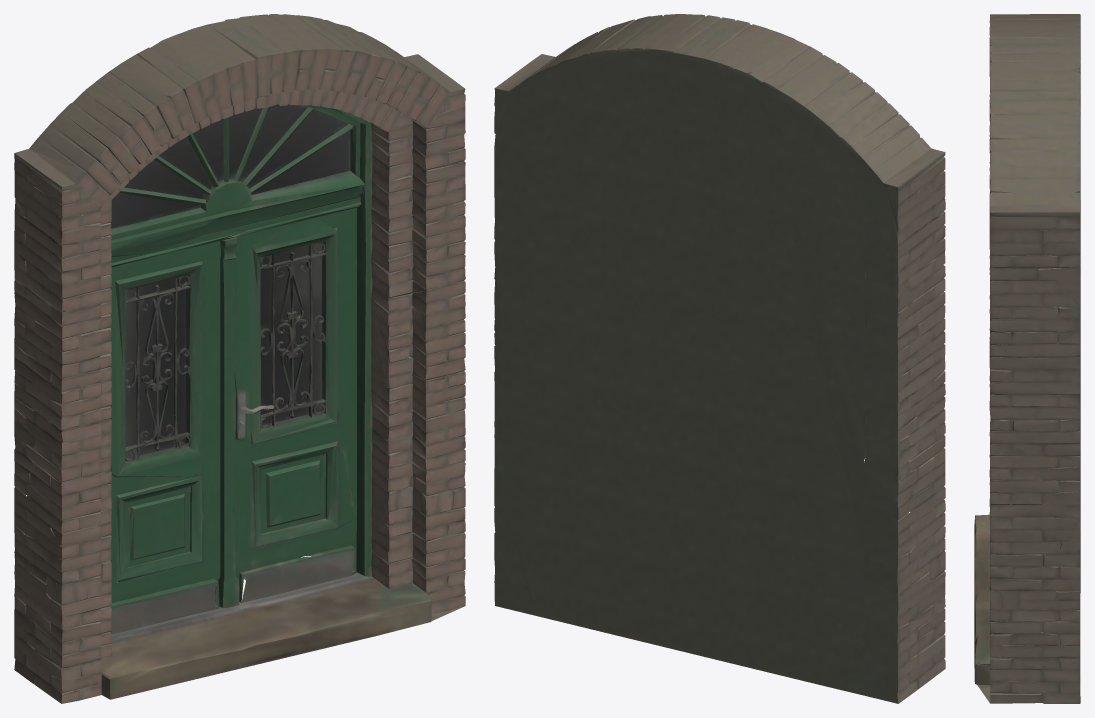
File: familok_street_door.glb
3 renders of one model, left to right at view 1: azimuth 30°, elevation 25°; view 2: azimuth 150°, elevation 25°; view 3: azimuth 270°, elevation 25°, orthographic. The views are drawn at different scales.
Parts seen in each view (by area): view 1: main; view 2: main; view 3: main.
Part boxes in pixels (bbox=[...]): main: bbox=[14, 14, 465, 703]; main: bbox=[494, 14, 945, 703]; main: bbox=[974, 14, 1080, 703].
Size of the model in its own units: 1.74 by 2.47 by 0.4185.
1 material, 1 textured.
